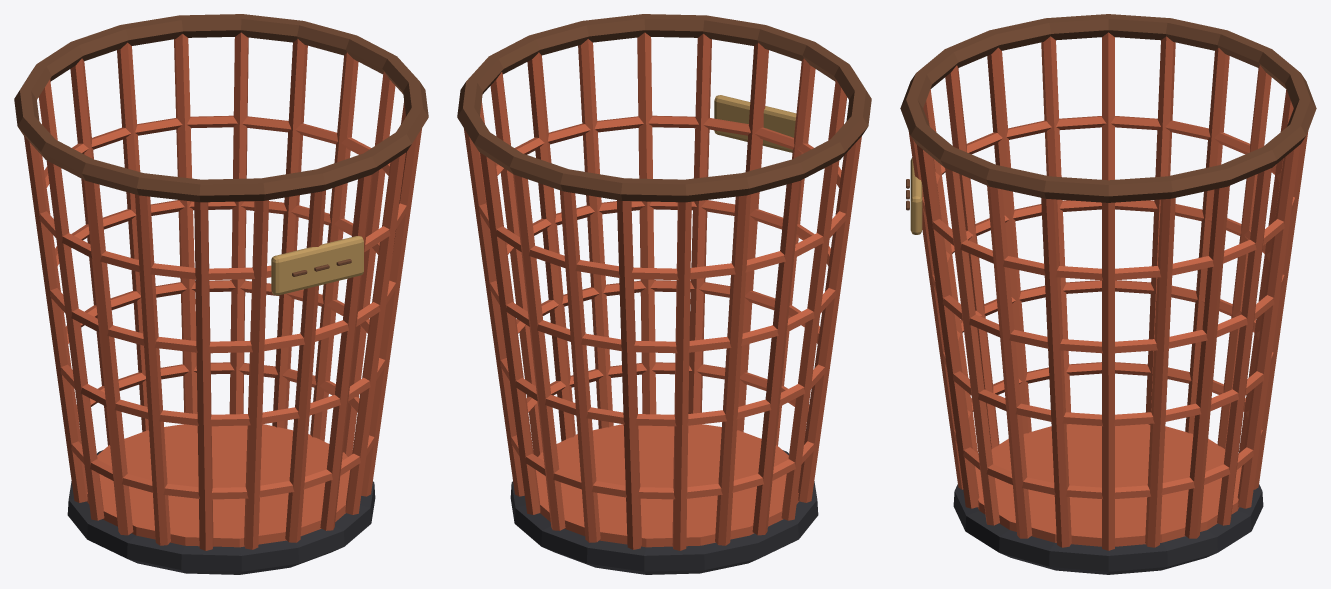
The model's file is 026_wire_wastebasket_v02.glb.
3 views of the same model, side by side, from view 1: azimuth 30°, elevation 25°; view 2: azimuth 150°, elevation 25°; view 3: azimuth 270°, elevation 25° (orthographic).
Parts seen in each view (by area): view 1: Rolled comfortable rim, Solid inner floor, Weighted octagonal wastebasket foot, Horizontal wire band.003, Horizontal wire band.002, Tapered vertical wire 8, Tapered vertical wire 9, Tapered vertical wire 6, Tapered vertical wire 7, Tapered vertical wire 11, Horizontal wire band.001, Tapered vertical wire 3 (+14 smaller); view 2: Rolled comfortable rim, Solid inner floor, Weighted octagonal wastebasket foot, Horizontal wire band.003, Horizontal wire band.002, Tapered vertical wire 12, Tapered vertical wire 15, Tapered vertical wire 11, Tapered vertical wire 14, Horizontal wire band.001, Tapered vertical wire 16, Tapered vertical wire 13 (+14 smaller); view 3: Rolled comfortable rim, Solid inner floor, Weighted octagonal wastebasket foot, Horizontal wire band.003, Horizontal wire band.002, Tapered vertical wire 18, Tapered vertical wire 2, Tapered vertical wire 1, Tapered vertical wire 19, Horizontal wire band.001, Tapered vertical wire 16, Tapered vertical wire 4 (+16 smaller).
Part boxes in pixels (left/top/right/bottom): Rolled comfortable rim: left=14, top=14, right=428, bottom=202; Solid inner floor: left=87, top=424, right=349, bottom=547; Weighted octagonal wastebasket foot: left=67, top=450, right=375, bottom=574; Horizontal wire band.003: left=39, top=115, right=407, bottom=280; Horizontal wire band.002: left=50, top=200, right=396, bottom=353; Tapered vertical wire 8: left=135, top=194, right=170, bottom=545; Tapered vertical wire 9: left=84, top=180, right=133, bottom=535; Tapered vertical wire 6: left=244, top=200, right=268, bottom=549; Tapered vertical wire 7: left=194, top=201, right=213, bottom=550; Tapered vertical wire 11: left=24, top=136, right=87, bottom=502; Horizontal wire band.001: left=60, top=280, right=385, bottom=426; Tapered vertical wire 3: left=345, top=152, right=405, bottom=514; Rolled comfortable rim: left=457, top=14, right=871, bottom=202; Solid inner floor: left=536, top=424, right=798, bottom=547; Weighted octagonal wastebasket foot: left=510, top=450, right=818, bottom=574; Horizontal wire band.003: left=478, top=115, right=846, bottom=280; Horizontal wire band.002: left=489, top=200, right=835, bottom=353; Tapered vertical wire 12: left=715, top=194, right=750, bottom=545; Tapered vertical wire 15: left=560, top=190, right=600, bottom=542; Tapered vertical wire 11: left=752, top=180, right=801, bottom=535; Tapered vertical wire 14: left=617, top=200, right=641, bottom=549; Horizontal wire band.001: left=500, top=280, right=825, bottom=426; Tapered vertical wire 16: left=513, top=174, right=565, bottom=530; Tapered vertical wire 13: left=672, top=201, right=691, bottom=550; Rolled comfortable rim: left=900, top=14, right=1316, bottom=202; Solid inner floor: left=975, top=424, right=1241, bottom=546; Weighted octagonal wastebasket foot: left=953, top=484, right=1263, bottom=574; Horizontal wire band.003: left=922, top=116, right=1295, bottom=280; Horizontal wire band.002: left=932, top=200, right=1284, bottom=353; Tapered vertical wire 18: left=1184, top=185, right=1229, bottom=538; Tapered vertical wire 2: left=987, top=185, right=1032, bottom=538; Tapered vertical wire 1: left=1041, top=198, right=1071, bottom=547; Tapered vertical wire 19: left=1145, top=198, right=1175, bottom=547; Horizontal wire band.001: left=943, top=280, right=1273, bottom=426; Tapered vertical wire 16: left=1237, top=145, right=1299, bottom=508; Tapered vertical wire 4: left=917, top=145, right=979, bottom=508.
Size of the model in its own units: 0.438 by 0.4844 by 0.438.
